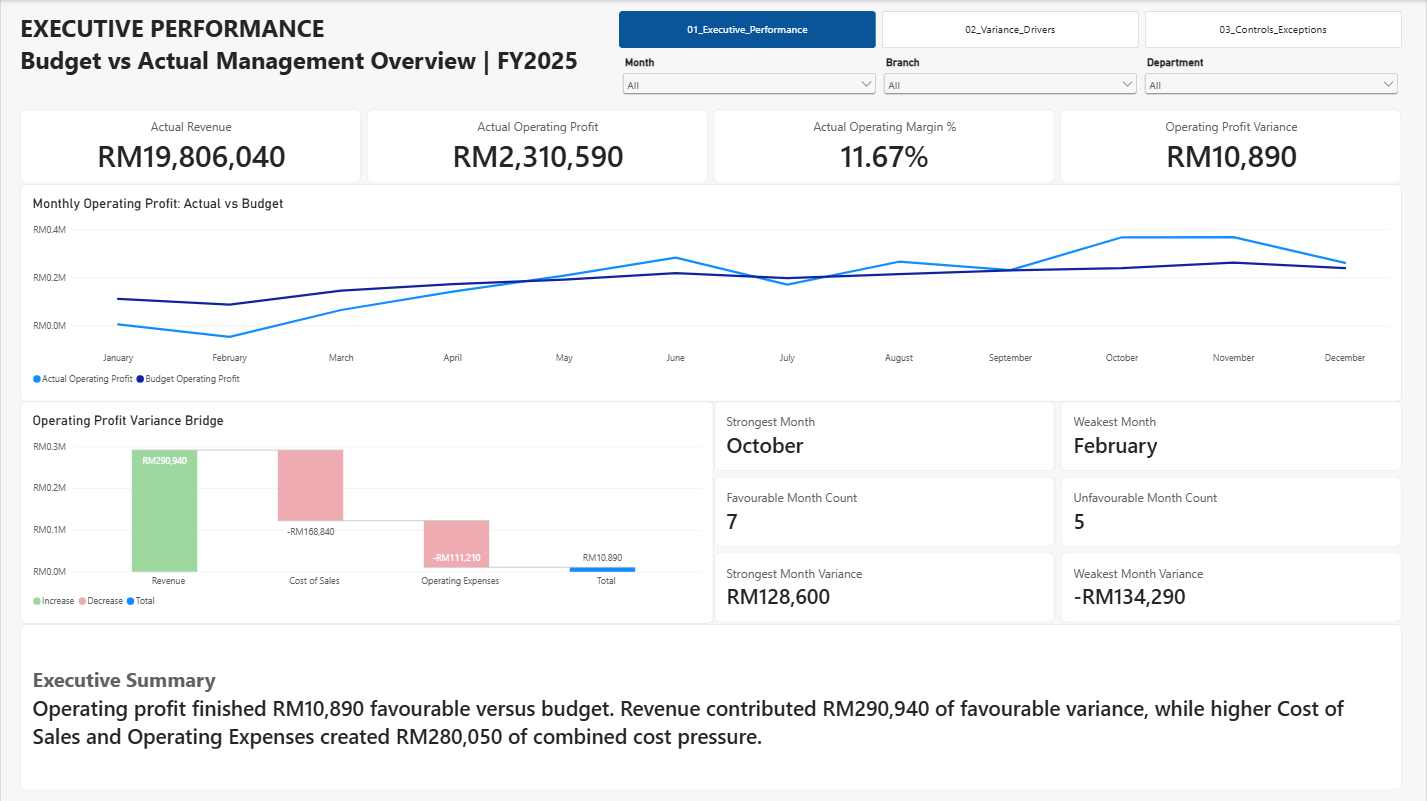

The dashboard page shown, as its layout file describes it:
{"tool":"powerbi","page":{"name":"01_Executive_Performance","canvas":[1920,1080],"ordinal":1},"visuals":[{"type":"textbox","box":[25.7,14.3,761.4,122.9],"z":0},{"type":"slicer","fields":{"Values":["dim_Month.MonthName"]},"box":[831.6,75.9,351.5,61.6],"z":0,"group":"g1"},{"type":"slicer","fields":{"Values":["dim_Branch.BranchName"]},"box":[1182.7,76.2,351.5,61.6],"z":1000,"group":"g1"},{"type":"cardVisual","fields":{"Data":["_Measures.Actual Revenue","_Measures.Actual Operating Profit","_Measures.Actual Operating Margin %","_Measures.Operating Profit Variance"]},"box":[25.7,147.1,1861.4,100],"z":1000},{"type":"slicer","fields":{"Values":["dim_Department.DepartmentName"]},"box":[1534.2,76.2,351.5,61.4],"z":2000,"group":"g1"},{"type":"lineChart","title":"Monthly Operating Profit: Actual vs Budget","fields":{"Category":["dim_Month.MonthName"],"Y":["_Measures.Actual Operating Profit","_Measures.Budget Operating Profit"]},"box":[25.7,247.1,1861.4,292.9],"z":2000},{"type":"waterfallChart","title":"Operating Profit Variance Bridge","fields":{"Category":["Variance_Bridge.Variance Driver"],"Y":["_Measures.Variance Bridge Value"]},"box":[25.7,540,934.3,300],"z":3000},{"type":"cardVisual","fields":{"Data":["_Measures.Strongest Month","_Measures.Weakest Month","_Measures.Favourable Month Count","_Measures.Unfavourable Month Count","_Measures.Strongest Month Variance","_Measures.Weakest Month Variance"]},"box":[960,540,927.1,300],"z":4000},{"type":"cardVisual","fields":{"Data":["_Measures.Executive Summary"]},"box":[25.7,840,1861.4,224.3],"z":5000},{"type":"group","id":"g1","title":"Group 1","box":[831.6,75.9,1054.5,61.4],"z":6000},{"type":"pageNavigator","title":"Page Navigation","box":[831.6,14.5,1054.5,50.1],"z":7000}]}

Visuals, with their boxes in screenshot pixels (x1, y1, x2, y2), scaled from the page's 1920x1080 canvas onto the 1427x801 screenshot:
textbox: bbox(19, 11, 585, 102)
slicer - dim_Month.MonthName: bbox(618, 56, 879, 102)
slicer - dim_Branch.BranchName: bbox(879, 57, 1140, 102)
cardVisual - _Measures.Actual Revenue x _Measures.Actual Operating Profit: bbox(19, 109, 1403, 183)
slicer - dim_Department.DepartmentName: bbox(1140, 57, 1402, 102)
"Monthly Operating Profit: Actual vs Budget" lineChart: bbox(19, 183, 1403, 400)
"Operating Profit Variance Bridge" waterfallChart: bbox(19, 400, 714, 623)
cardVisual - _Measures.Strongest Month x _Measures.Weakest Month: bbox(714, 400, 1403, 623)
cardVisual - _Measures.Executive Summary: bbox(19, 623, 1403, 789)
"Group 1" group: bbox(618, 56, 1402, 102)
"Page Navigation" pageNavigator: bbox(618, 11, 1402, 48)
